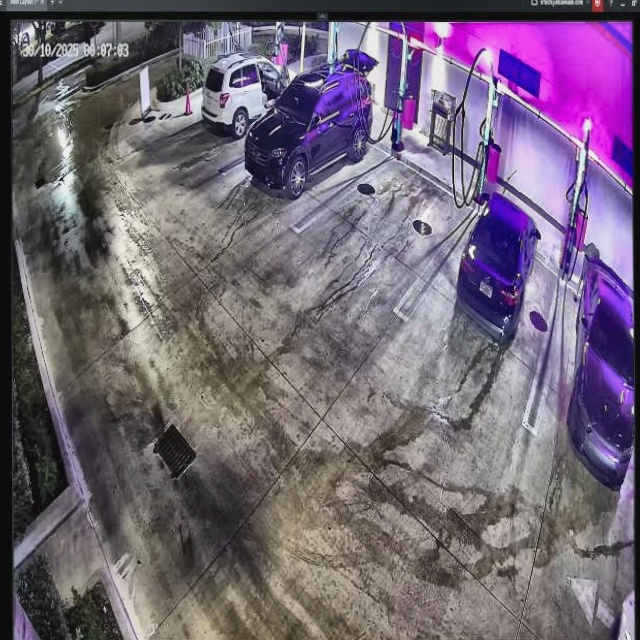Car: (246, 49, 378, 197), (456, 186, 542, 340)
